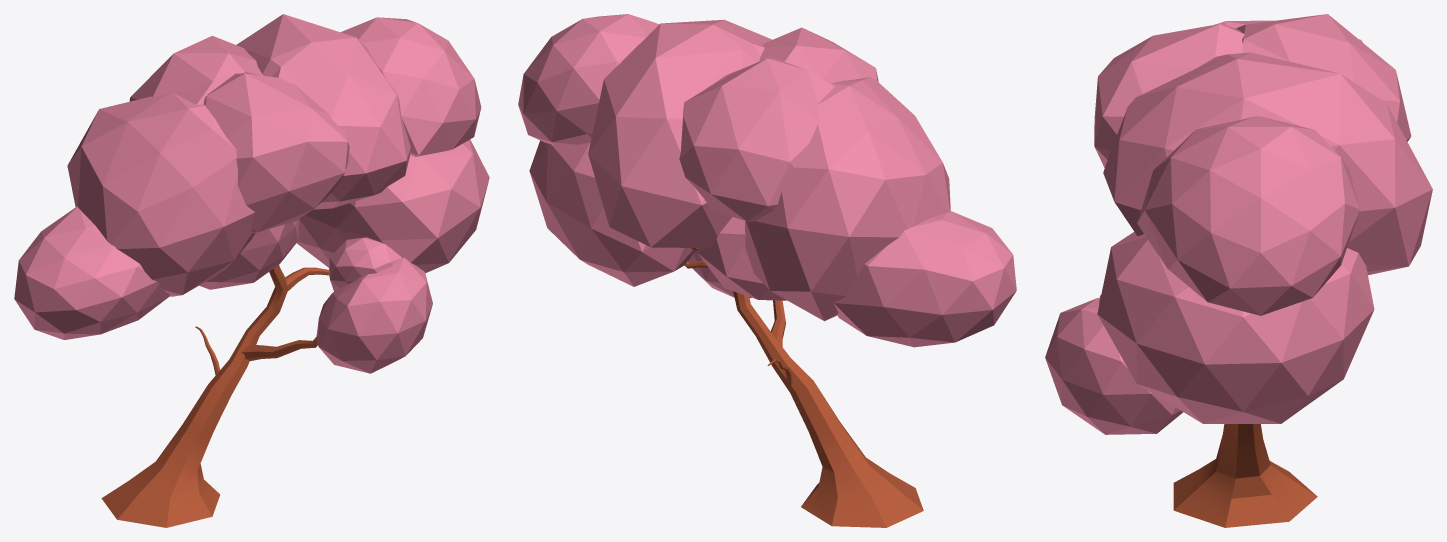
File: SakuraTree.fbx
The picture shows the model from 3 angles, left to right: view 1: azimuth 30°, elevation 25°; view 2: azimuth 150°, elevation 25°; view 3: azimuth 270°, elevation 25°; orthographic projection. The views are drawn at different scales.
Parts seen in each view (by area): view 1: Icosphere.006, Icosphere.001; view 2: Icosphere.006, Icosphere.001; view 3: Icosphere.006, Icosphere.001.
Boxes of the visible parts, bbox=[...] form: Icosphere.006: bbox=[14, 14, 489, 373]; Icosphere.001: bbox=[101, 265, 328, 527]; Icosphere.006: bbox=[518, 14, 1016, 347]; Icosphere.001: bbox=[684, 248, 923, 527]; Icosphere.006: bbox=[1045, 14, 1432, 434]; Icosphere.001: bbox=[1173, 424, 1317, 527].
Size of the model in its own units: 921 by 827 by 552.
